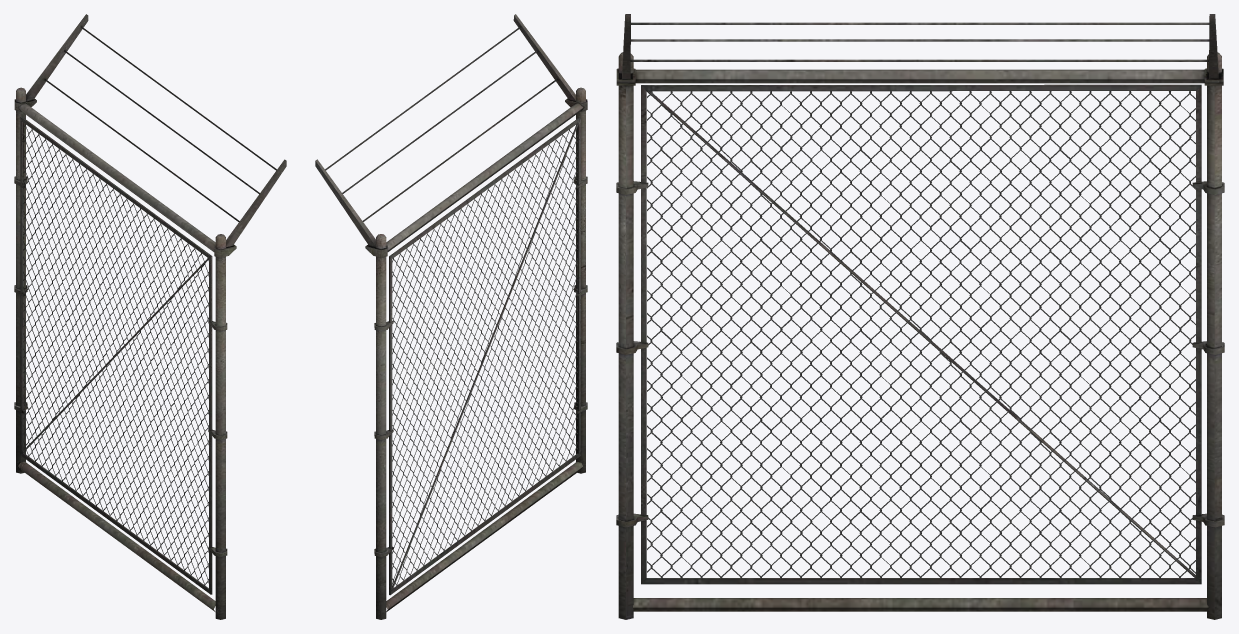
Rendered from exterior_fence002c.glb.
3 renders of one model, left to right at view 1: azimuth 30°, elevation 25°; view 2: azimuth 150°, elevation 25°; view 3: azimuth 270°, elevation 25°, orthographic. The views are drawn at different scales.
Parts seen in each view (by area): view 1: 1_fence_alpha, 0_fence_sheet01; view 2: 1_fence_alpha, 0_fence_sheet01; view 3: 0_fence_sheet01, 1_fence_alpha.
Part boxes in pixels (left/top/right/bottom): 1_fence_alpha: left=23, top=124, right=208, bottom=585; 0_fence_sheet01: left=14, top=14, right=286, bottom=619; 1_fence_alpha: left=392, top=124, right=577, bottom=586; 0_fence_sheet01: left=315, top=14, right=587, bottom=619; 0_fence_sheet01: left=616, top=14, right=1224, bottom=619; 1_fence_alpha: left=647, top=91, right=1195, bottom=578.
Bounding box in the file's own units: 0.6618 × 3.86 × 3.28.
2 materials, 2 textured.
